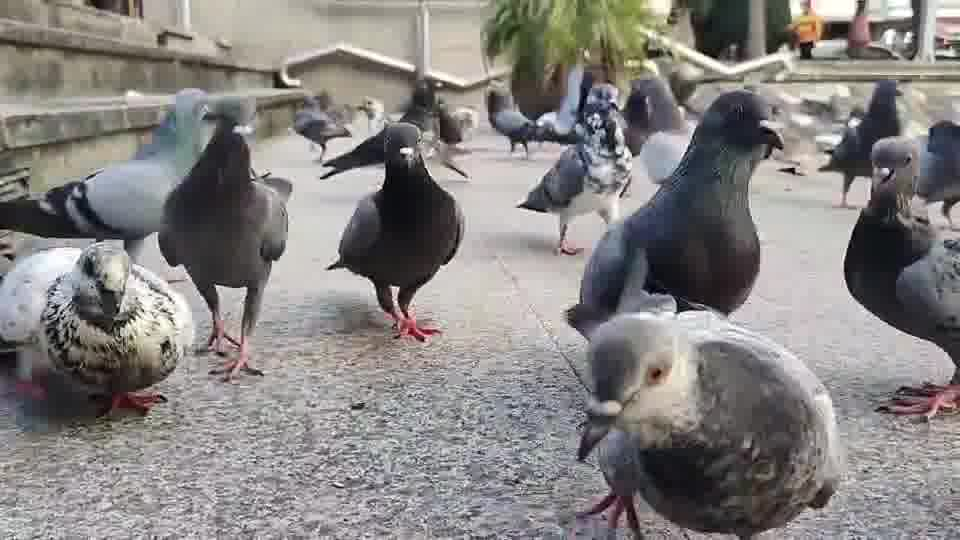Pigeon: (574, 310, 842, 538), (565, 88, 784, 339), (157, 94, 293, 382), (0, 87, 210, 262), (842, 134, 959, 419), (318, 120, 465, 342), (38, 239, 184, 418), (515, 82, 633, 256), (817, 78, 904, 208), (909, 118, 959, 229), (290, 92, 352, 161), (486, 88, 537, 159)
